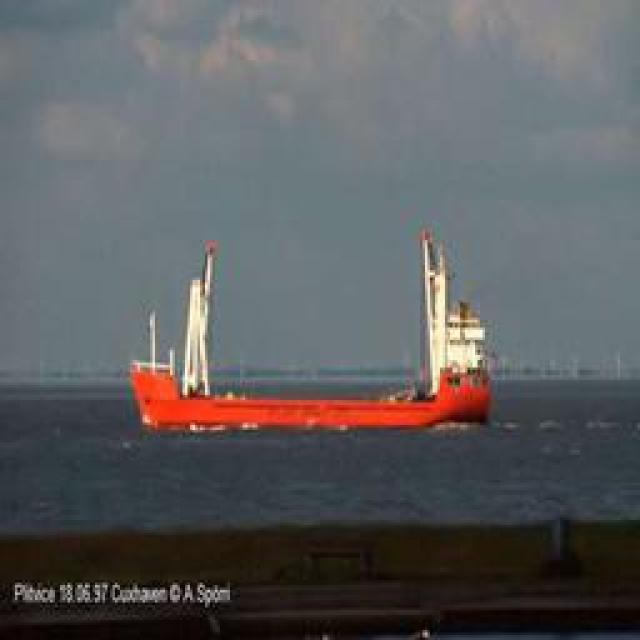Ship: (131, 219, 496, 434)
